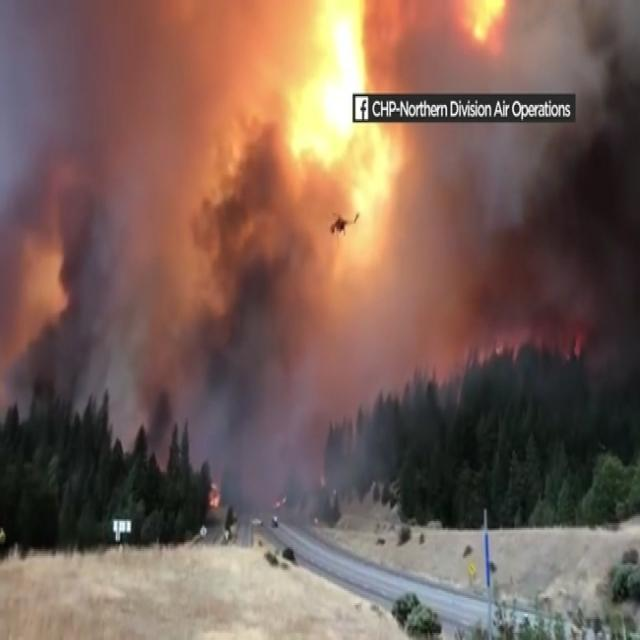Fire: (292, 15, 404, 240)
Smoke: (1, 0, 408, 485), (406, 12, 640, 397)
